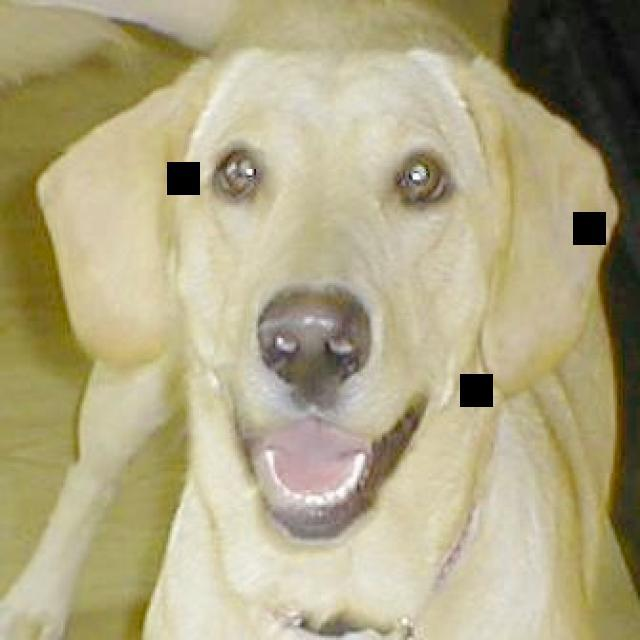adult_dog: (30, 10, 640, 640)
